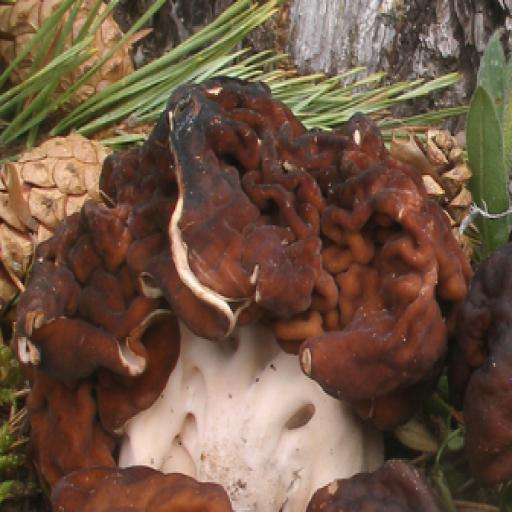mushroom: (21, 70, 504, 512)
